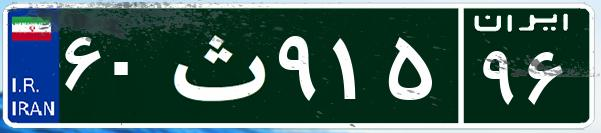0: (110, 28, 158, 105)
1: (330, 28, 385, 110)
5: (385, 28, 445, 110)
6: (57, 26, 110, 107), (525, 38, 570, 115)
9: (273, 28, 330, 110), (475, 38, 525, 113)
ث: (158, 15, 273, 115)
